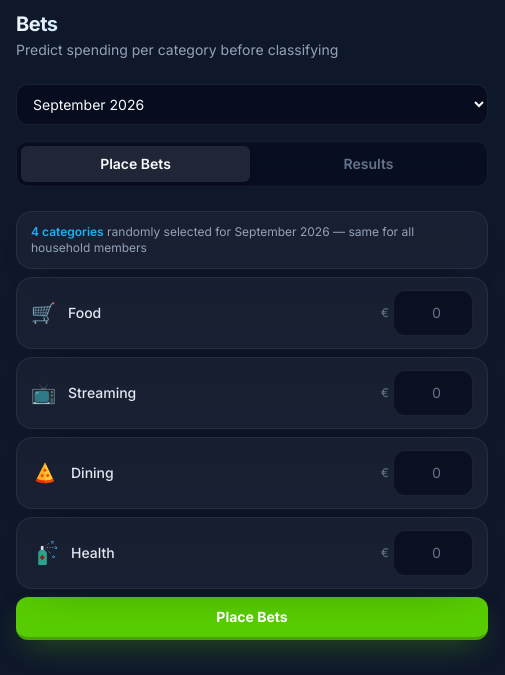
Test case: BetsPage › disables button while submitting
Type "200" into the number field with placeholder "0" in the row of "Food" at [433, 313], box [393,290,473,336]
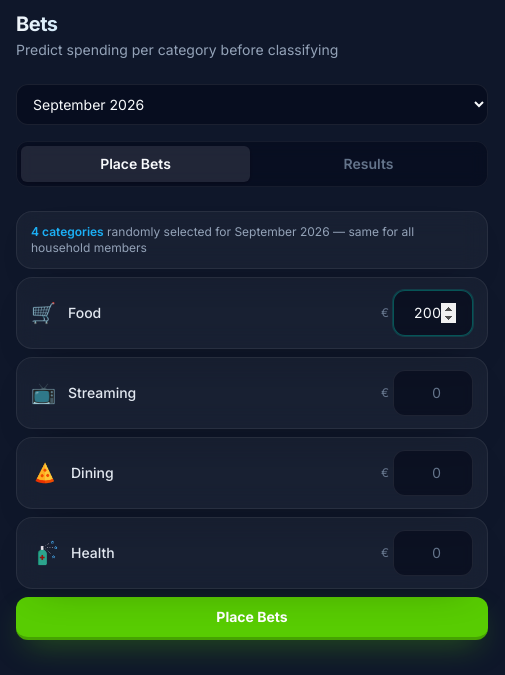
Click the button "Place Bets" below "Health" at [252, 618], box [16,597,488,640]
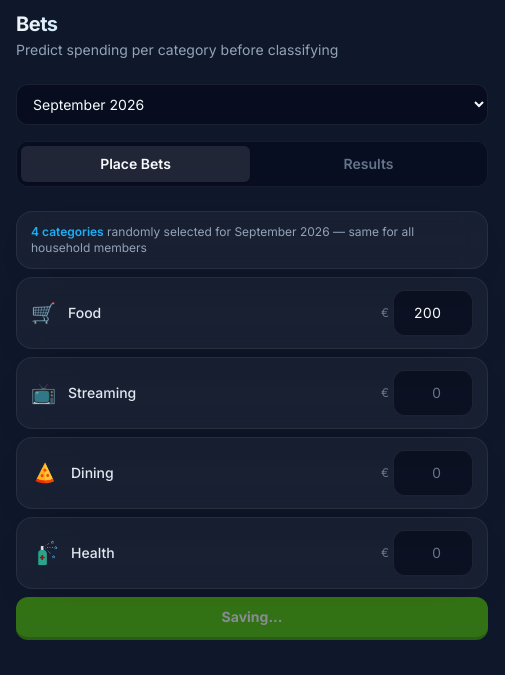
Result: the button "Saving..." is disabled at [16,597,488,640]
